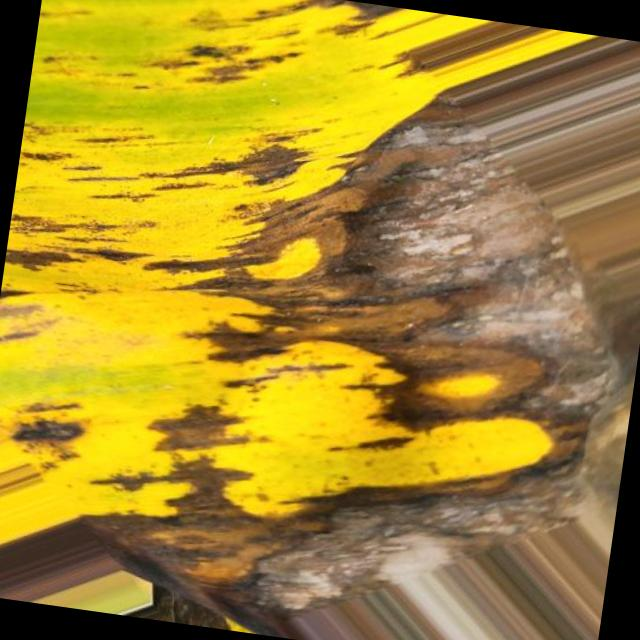Banana_Black_Sigatoka: (190, 106, 640, 640), (0, 123, 202, 377), (177, 0, 549, 123)
